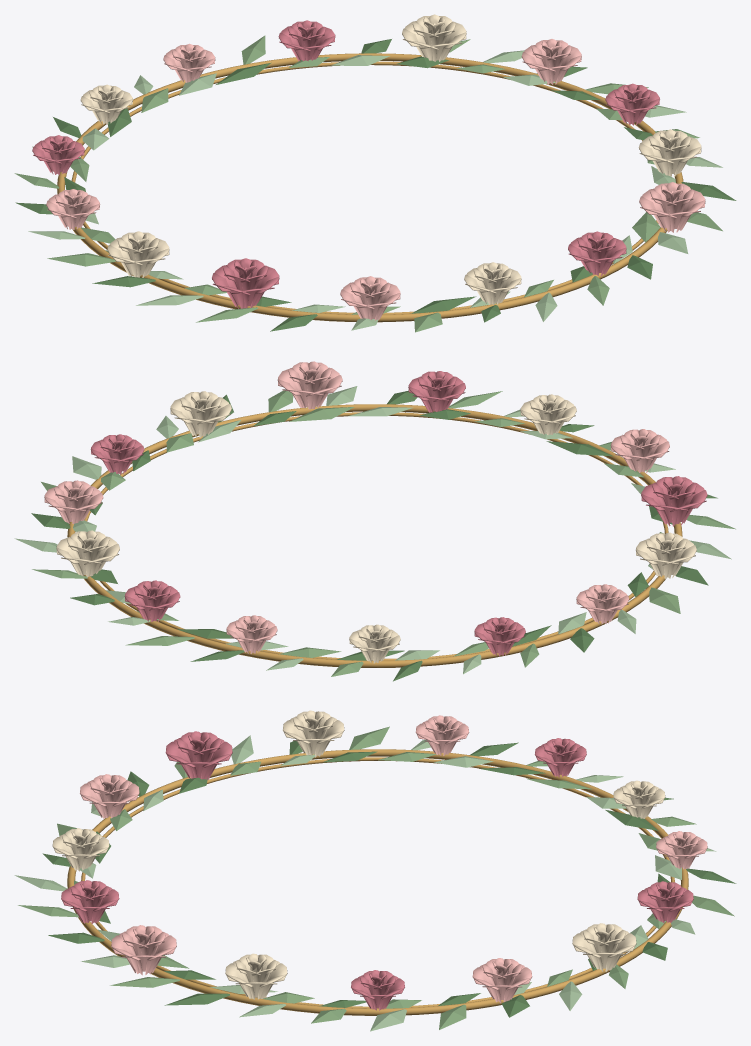
File: floral_wreath.glb
3 renders of one model, top to bottom at view 1: azimuth 30°, elevation 25°; view 2: azimuth 150°, elevation 25°; view 3: azimuth 270°, elevation 25°, orthographic.
Visible parts, largest first — view 1: floral_wreath; view 2: floral_wreath; view 3: floral_wreath.
Part boxes in pixels (x1=…): floral_wreath: x1=14, y1=14, x2=736, y2=332; floral_wreath: x1=14, y1=361, x2=735, y2=681; floral_wreath: x1=14, y1=710, x2=736, y2=1031.
Bounding box in the file's own units: 0.5527 × 0.0396 × 0.5536.
